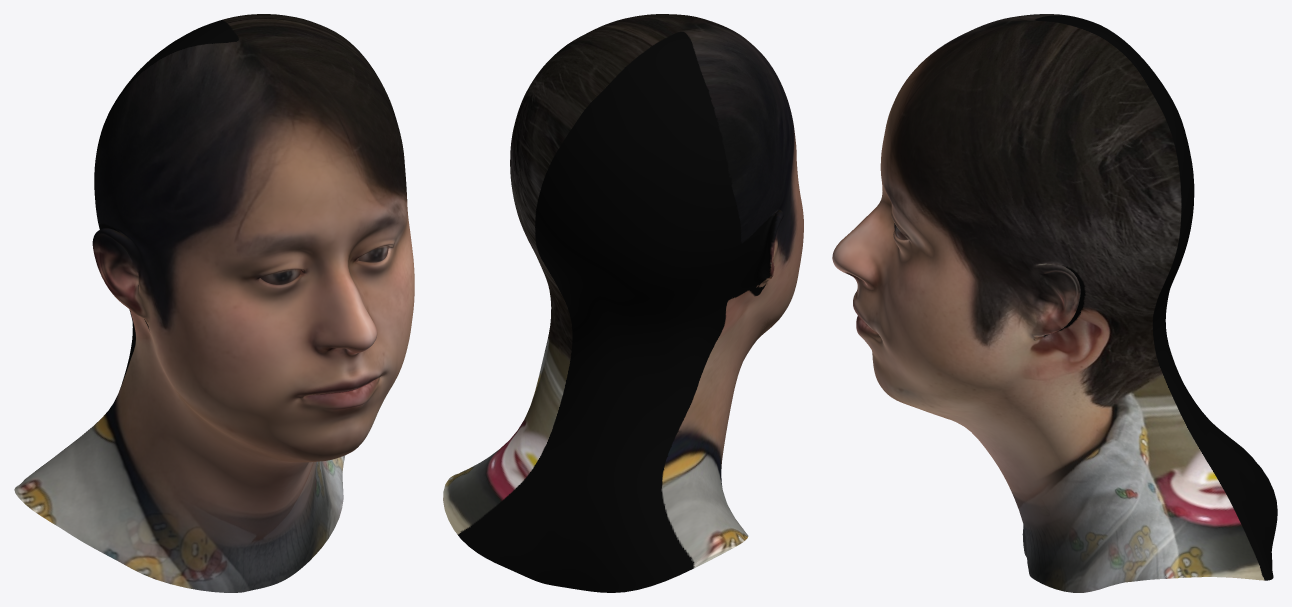
The model's file is myface.glb.
The picture shows the model from 3 angles, left to right: view 1: azimuth 30°, elevation 25°; view 2: azimuth 150°, elevation 25°; view 3: azimuth 270°, elevation 25°; orthographic projection. The views are drawn at different scales.
Visible parts, largest first — view 1: FBHead; view 2: FBHead; view 3: FBHead.
Boxes of the visible parts, left/top/right/bottom form: FBHead: left=14, top=14, right=414, bottom=592; FBHead: left=443, top=14, right=803, bottom=592; FBHead: left=832, top=14, right=1277, bottom=592.
Bounding box in the file's own units: 1.73 × 2.88 × 2.15.
Materials: 1 (1 with a texture image).
